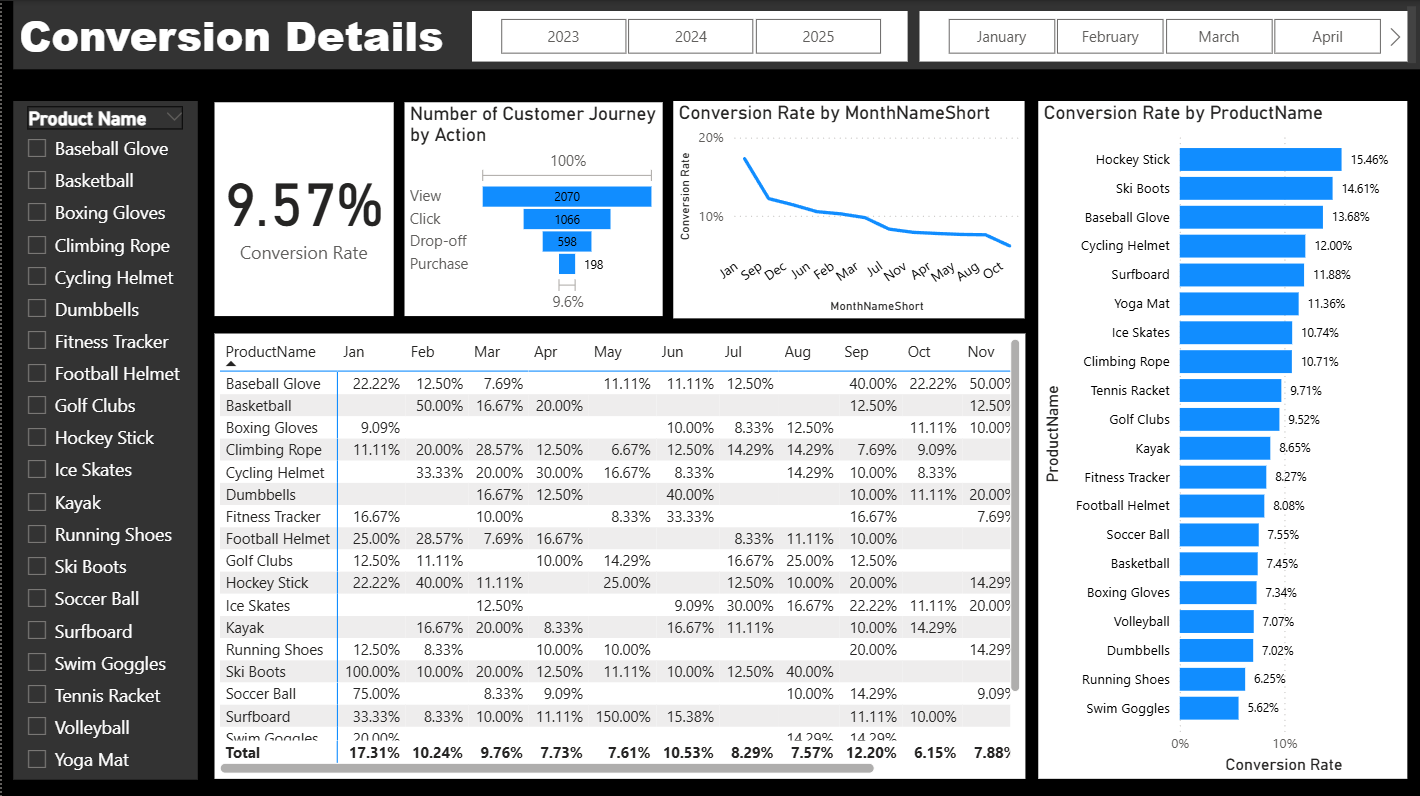

Layout of this report page (visuals, bound fields, positions):
{"tool":"powerbi","page":{"name":"Conversion Details","canvas":[1280,720],"ordinal":1},"visuals":[{"type":"textbox","box":[10,0,1270,61.4],"z":0},{"type":"slicer","fields":{"Values":["dim_products.ProductName"]},"box":[9.6,90.6,166,612],"z":1000},{"type":"card","fields":{"Values":["Calculations.Conversion Rate"]},"box":[191.4,91.4,161.4,192.9],"z":2000},{"type":"slicer","fields":{"Values":["Calendar.Year"]},"box":[424.3,8.6,392.9,45.7],"z":3000},{"type":"slicer","fields":{"Values":["Calendar.MonthNameLong"]},"box":[827.1,8.6,440,45.7],"z":4000},{"type":"lineChart","fields":{"Y":["Calculations.Conversion Rate"],"Category":["Calendar.MonthNameShort"]},"box":[605.7,90,317.1,195.7],"z":5000},{"type":"clusteredBarChart","fields":{"Category":["dim_products.ProductName"],"Y":["Calculations.Conversion Rate"]},"box":[934.3,90,332.9,611.4],"z":6000},{"type":"pivotTable","fields":{"Values":["Calculations.Conversion Rate"],"Rows":["dim_products.ProductName"],"Columns":["Calendar.MonthNameShort"]},"box":[191.4,300,731.4,401.4],"z":7000},{"type":"funnel","fields":{"Y":["Calculations.Number of Customer Journey"],"Category":["fact_customer_journey.Action"]},"box":[362.9,91.4,232.9,192.9],"z":8000}]}

Visuals, with their boxes in screenshot pixels (x1, y1, x2, y2), scaled from the page's 1280x720 canvas onto the 1420x796 screenshot:
textbox: Rect(11, 0, 1419, 68)
slicer - dim_products.ProductName: Rect(11, 100, 195, 777)
card - Calculations.Conversion Rate: Rect(212, 101, 391, 314)
slicer - Calendar.Year: Rect(471, 10, 907, 60)
slicer - Calendar.MonthNameLong: Rect(918, 10, 1406, 60)
lineChart - Calculations.Conversion Rate x Calendar.MonthNameShort: Rect(672, 100, 1024, 316)
clusteredBarChart - dim_products.ProductName x Calculations.Conversion Rate: Rect(1036, 100, 1406, 775)
pivotTable - Calculations.Conversion Rate x dim_products.ProductName: Rect(212, 332, 1024, 775)
funnel - Calculations.Number of Customer Journey x fact_customer_journey.Action: Rect(403, 101, 661, 314)
